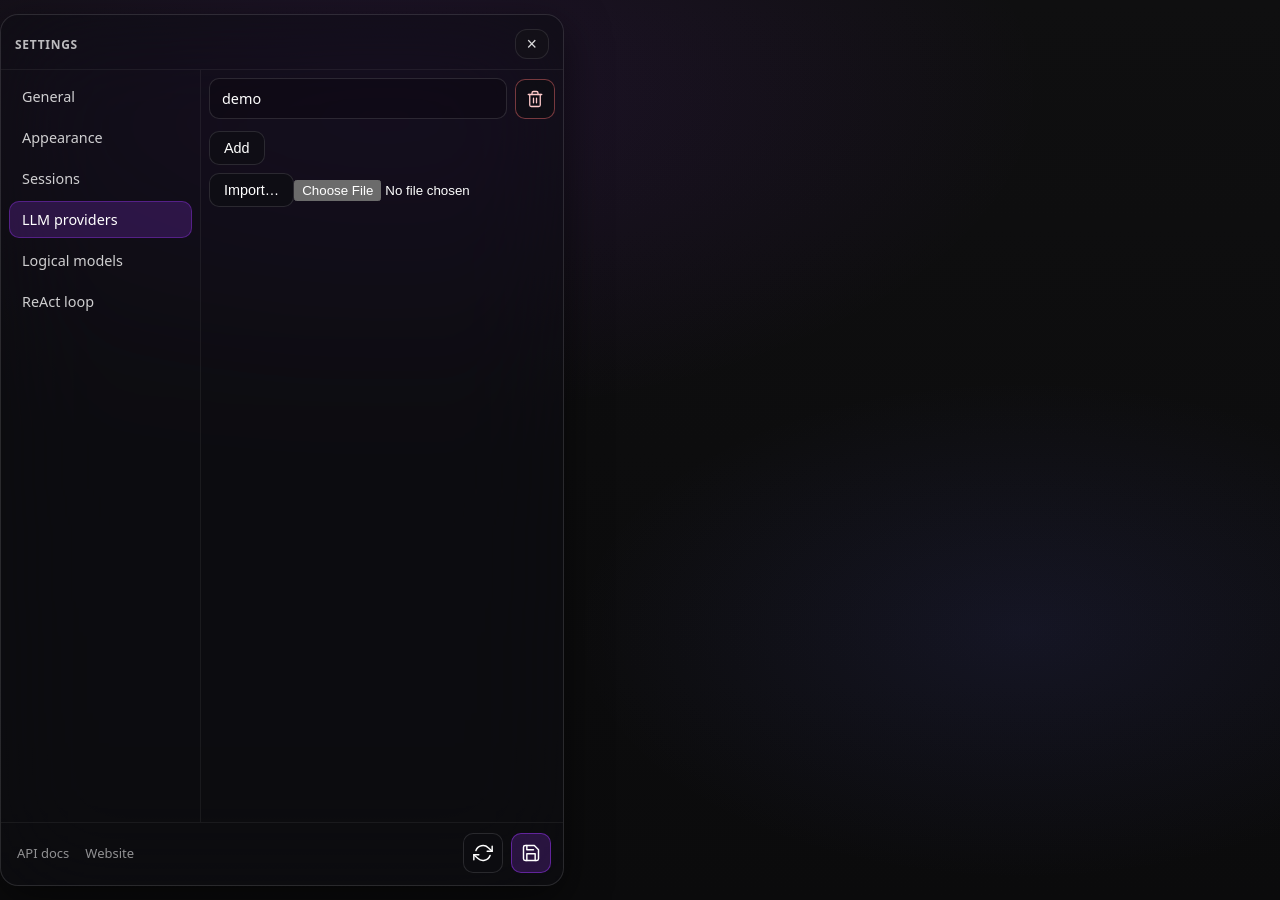
Test: going to Logical models with a provider open shows the list of models
Click the button with test id "settings-master-item-0" at coordinates (242, 98), box [209,78,507,119]
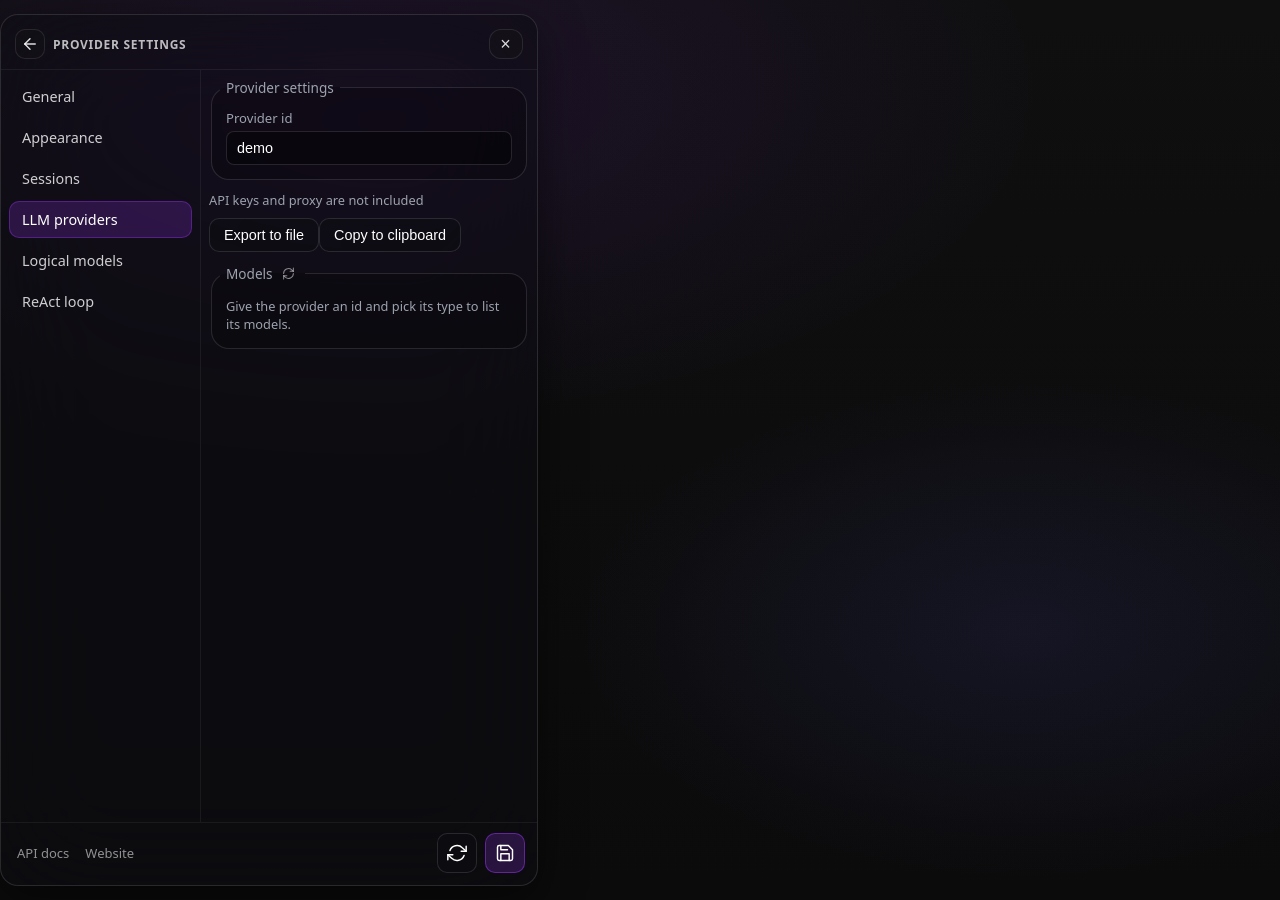
Click the button with test id "settings-tab-models" at coordinates (100, 260), box [9,242,192,279]
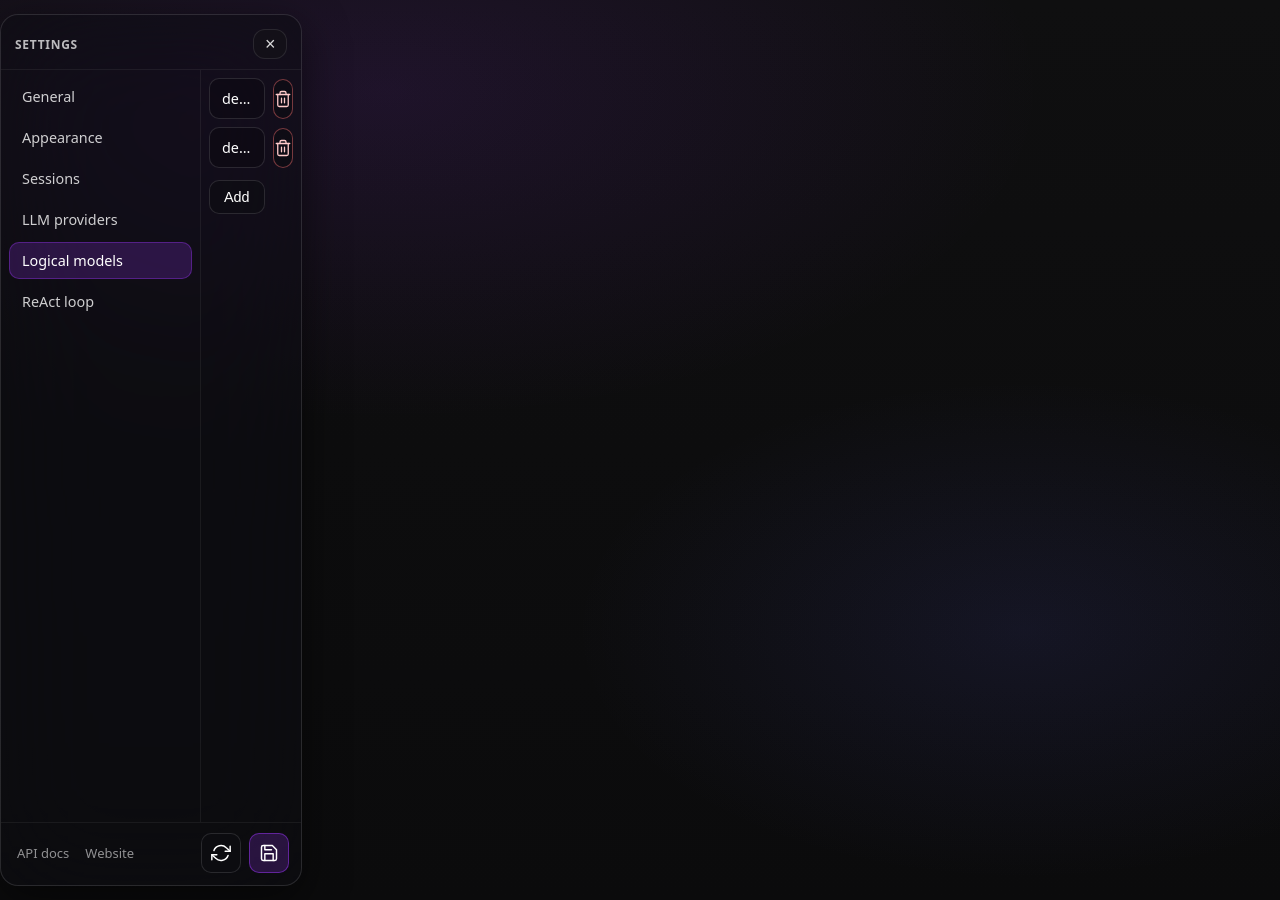
Result: the button with test id "settings-master-item-0" reads "demo/m1" at [209,78,265,119]
Result: the element with class "settings-detail" is gone
Result: the text with class "settings-head-section" is gone
